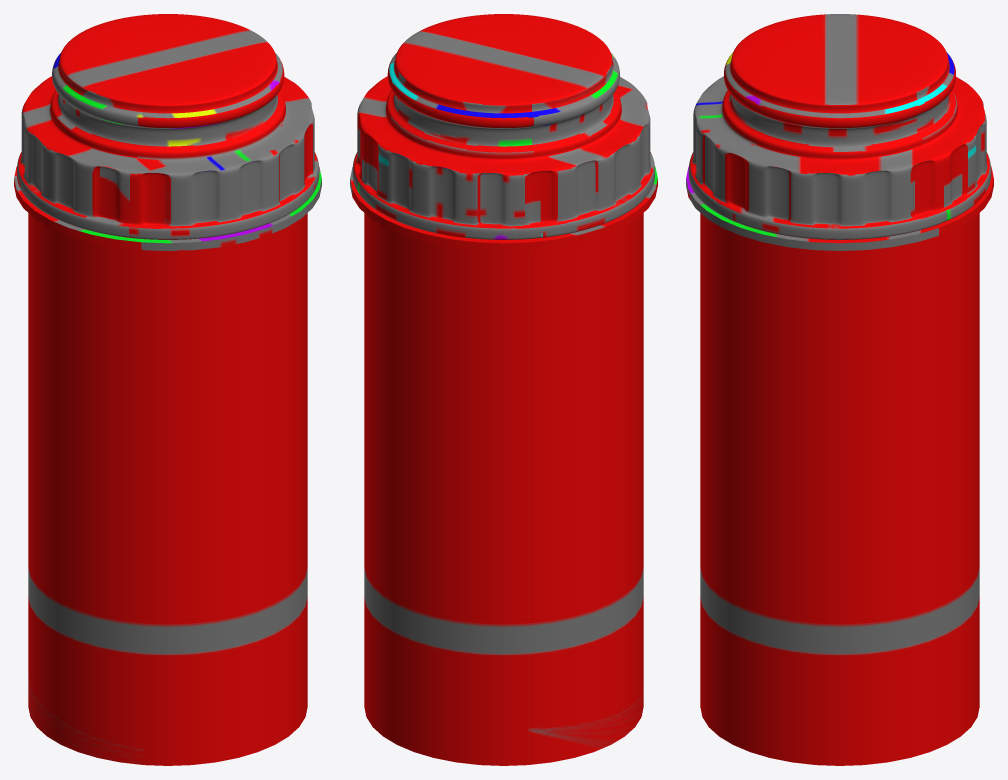
File: pillBottle.fbx
3 views of the same model, side by side, from view 1: azimuth 30°, elevation 25°; view 2: azimuth 150°, elevation 25°; view 3: azimuth 270°, elevation 25° (orthographic).
Visible parts, largest first — view 1: container, Subdivision_Surface; view 2: container, Subdivision_Surface; view 3: container, Subdivision_Surface.
Boxes of the visible parts, bbox=[...] form: container: bbox=[14, 166, 321, 765]; Subdivision_Surface: bbox=[17, 14, 319, 239]; container: bbox=[350, 166, 657, 765]; Subdivision_Surface: bbox=[352, 14, 654, 239]; container: bbox=[686, 166, 993, 765]; Subdivision_Surface: bbox=[688, 14, 991, 239].
Bounding box in the file's own units: 225 × 523 × 225.
